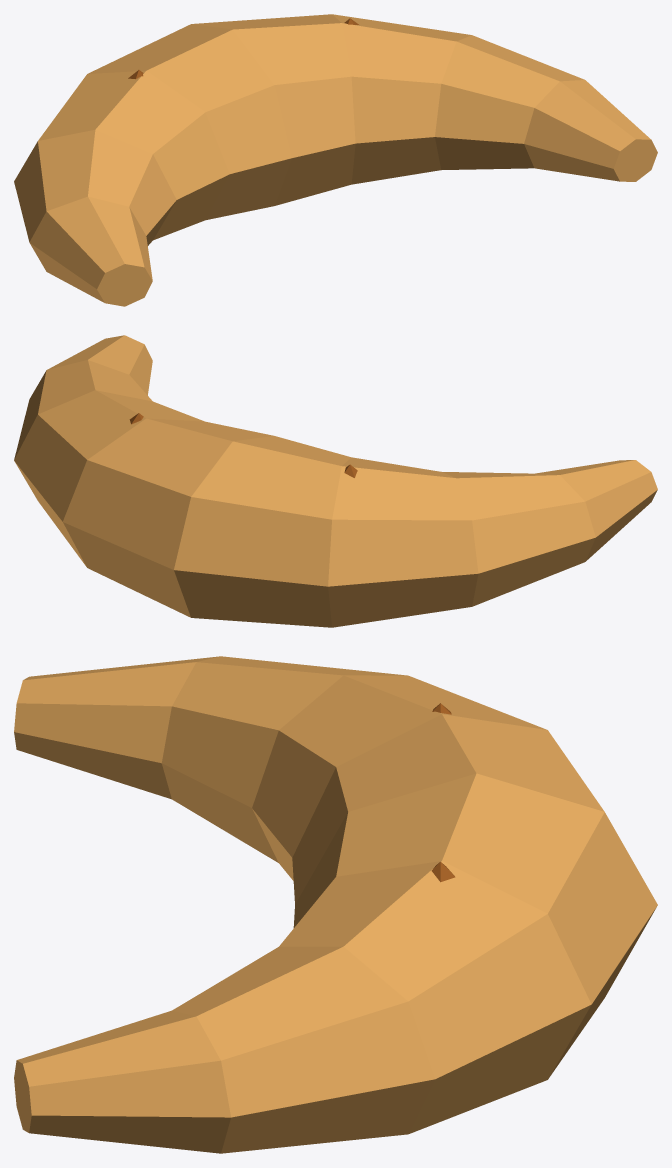
Rendered from croissant.glb.
3 views of the same model, one above another, from view 1: azimuth 30°, elevation 25°; view 2: azimuth 150°, elevation 25°; view 3: azimuth 270°, elevation 25° (orthographic). The views are drawn at different scales.
Visible parts, largest first — view 1: croissant; view 2: croissant; view 3: croissant.
Part boxes in pixels (left/top/right/bottom): croissant: left=14, top=14, right=657, bottom=306; croissant: left=14, top=335, right=657, bottom=627; croissant: left=14, top=656, right=657, bottom=1153.
Bounding box in the file's own units: 0.1552 × 0.0448 × 0.0994.
